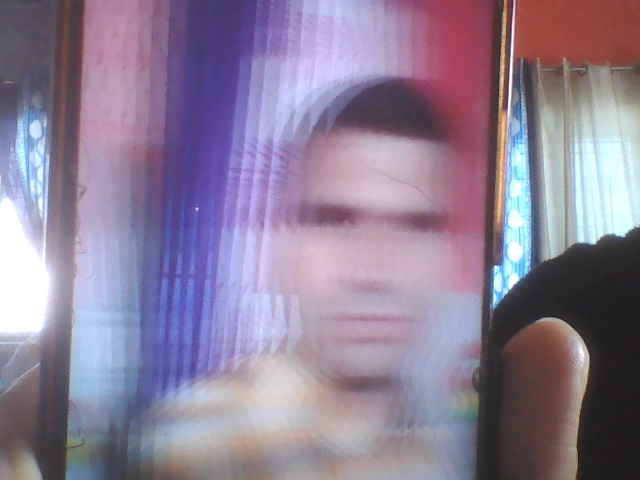fake: (230, 28, 503, 415)
